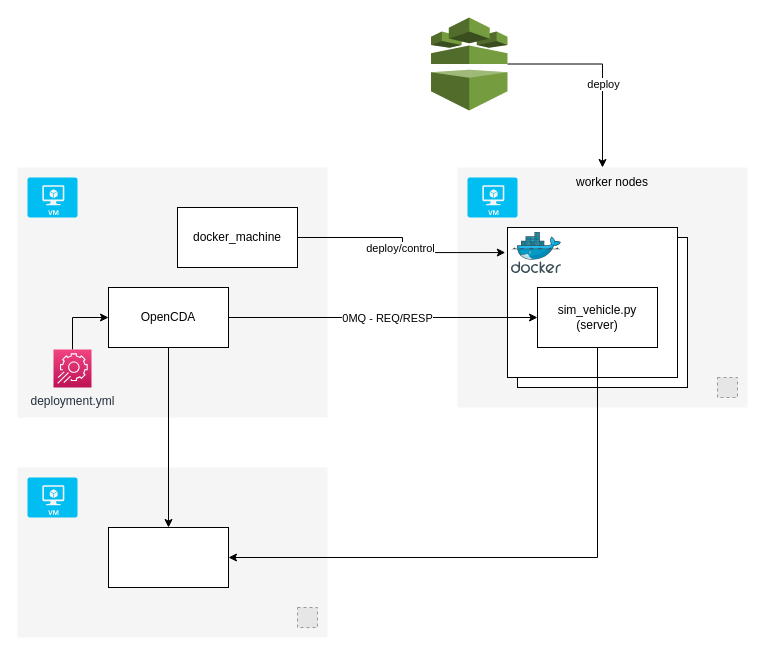
The diagram is 764 pixels wide and 655 high, and some of its shapes have lost their labels. Grey dashed boxes stand in for pictures. Each missing label, with the centre of its shape:
"ARM template" goes at (469,63).
"CARLA (Server)" goes at (168,557).
